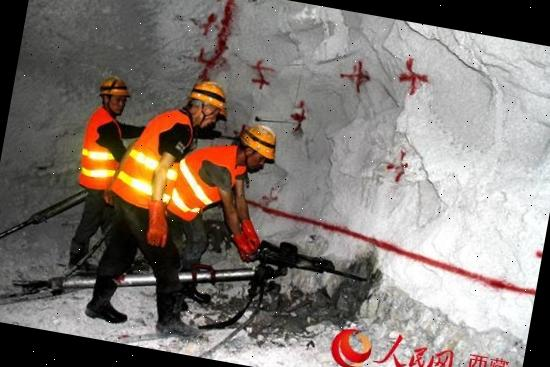helmet: (188, 77, 233, 113), (238, 120, 282, 148), (96, 72, 136, 100)
wear: (118, 105, 181, 218), (175, 144, 251, 226), (75, 110, 123, 190)
